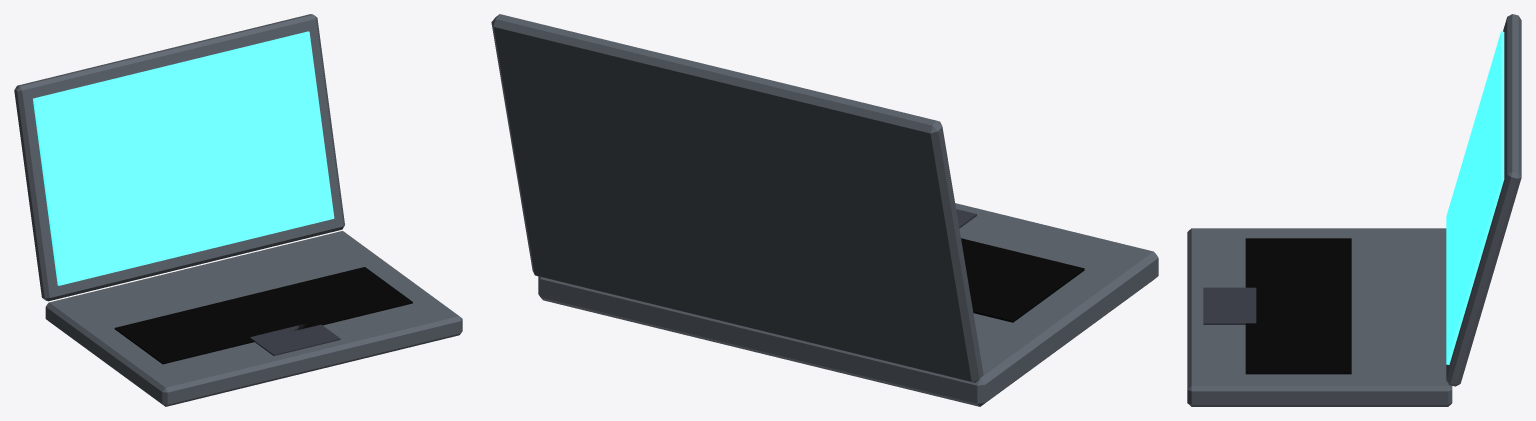
The model's file is laptop.glb.
3 views of the same model, side by side, from view 1: azimuth 30°, elevation 25°; view 2: azimuth 150°, elevation 25°; view 3: azimuth 270°, elevation 25° (orthographic). The views are drawn at different scales.
Parts seen in each view (by area): view 1: laptop; view 2: laptop; view 3: laptop.
Part boxes in pixels (<box>): laptop: <box>14,14,462,406</box>; laptop: <box>491,14,1158,406</box>; laptop: <box>1187,14,1521,406</box>.
Bounding box in the file's own units: 0.36 × 0.2449 × 0.3153.
